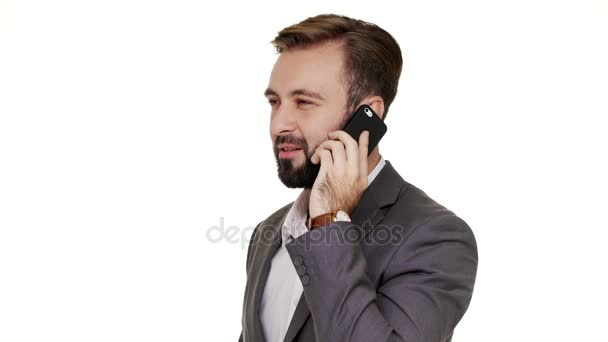phone: (324, 105, 387, 176)
talk: (262, 87, 389, 228)
